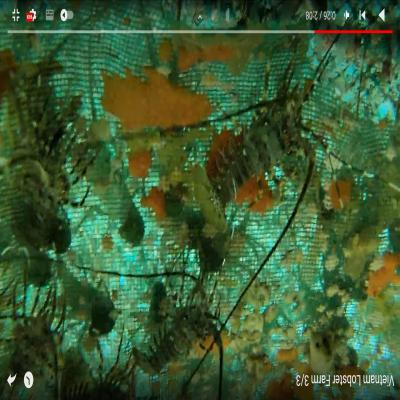lobster: (213, 85, 313, 205), (135, 284, 213, 376)
